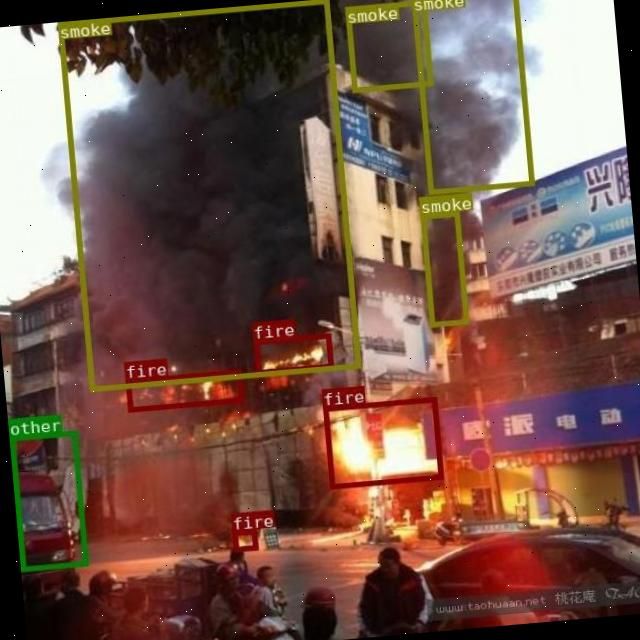fire: (322, 395, 442, 488), (125, 368, 242, 410), (252, 332, 332, 373), (232, 528, 258, 550)
smoke: (56, 0, 359, 389), (410, 0, 533, 193), (345, 0, 433, 91), (418, 210, 468, 326)
